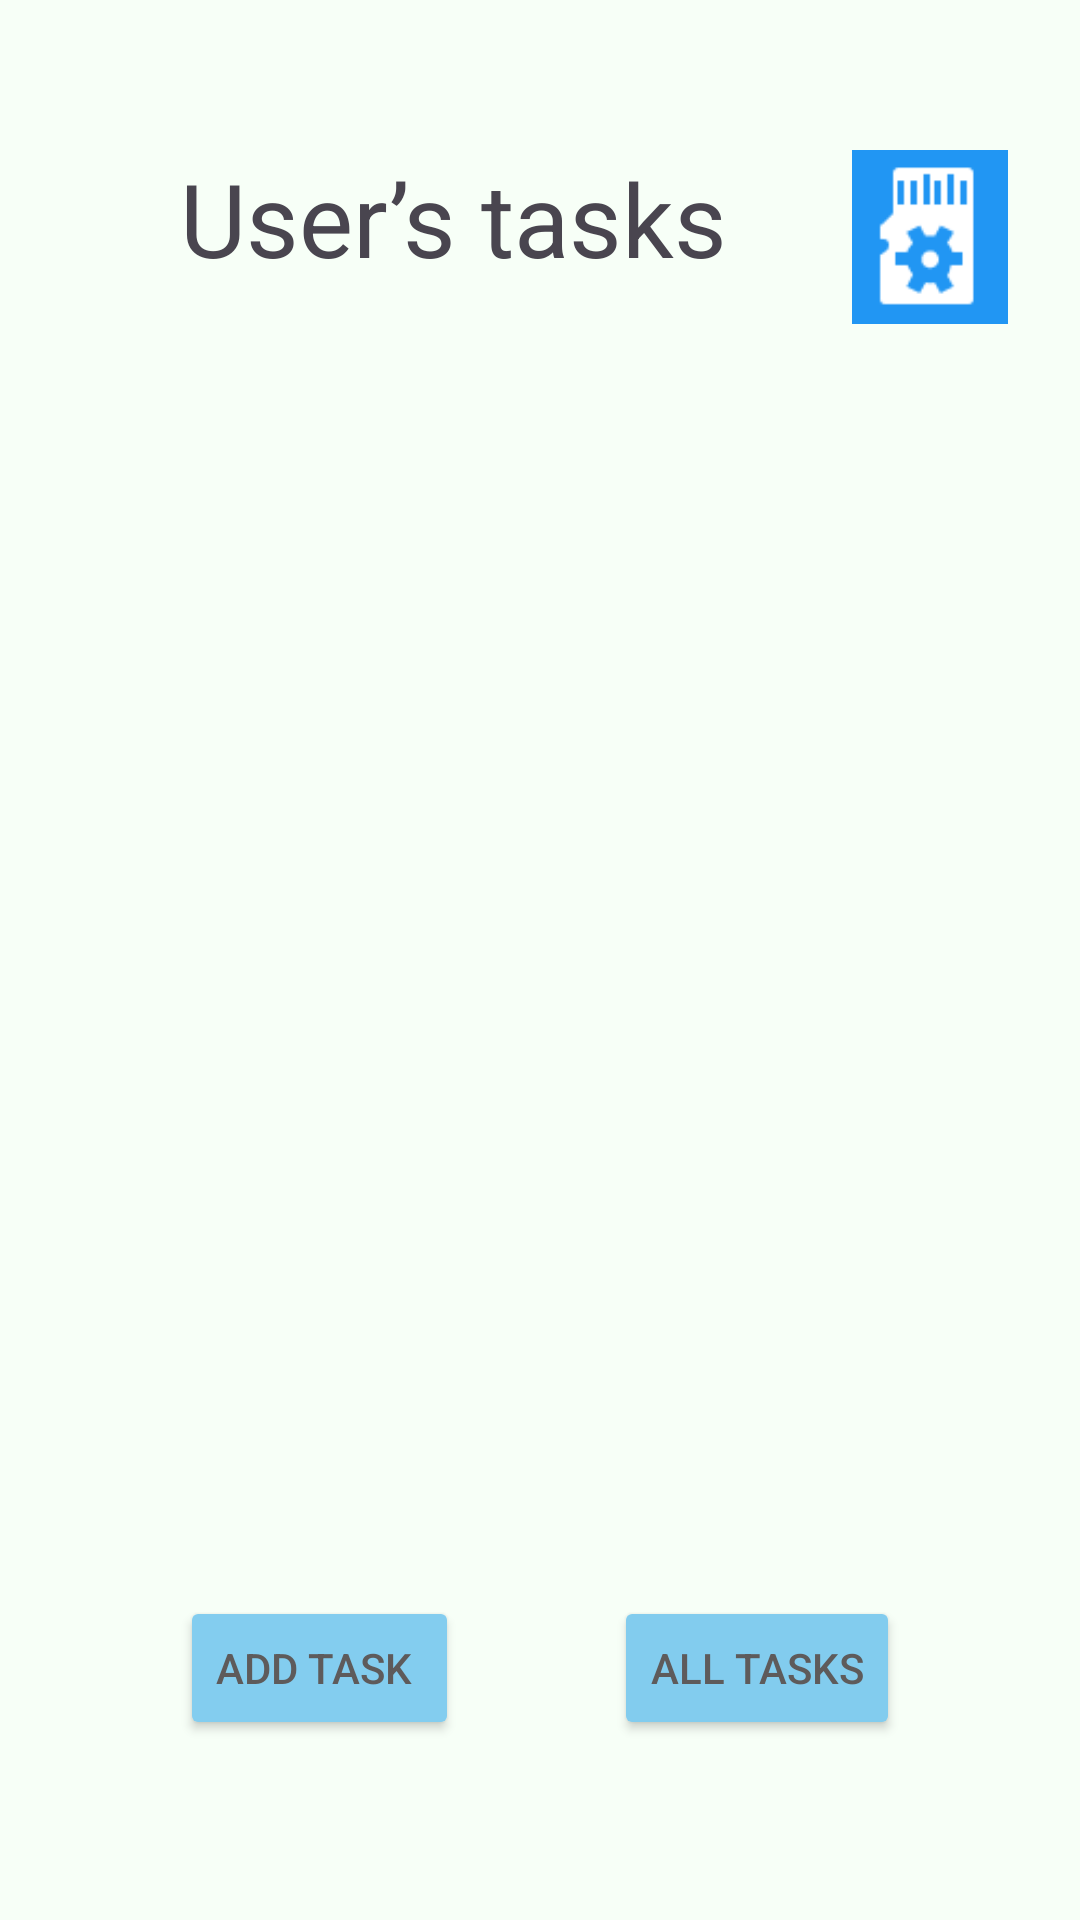

Locate icon controls on the screen. Image size 1080px×1920px, boxes as (x1, y1, x2, y2).
Navigate to settings page: (852, 150, 1008, 324)
